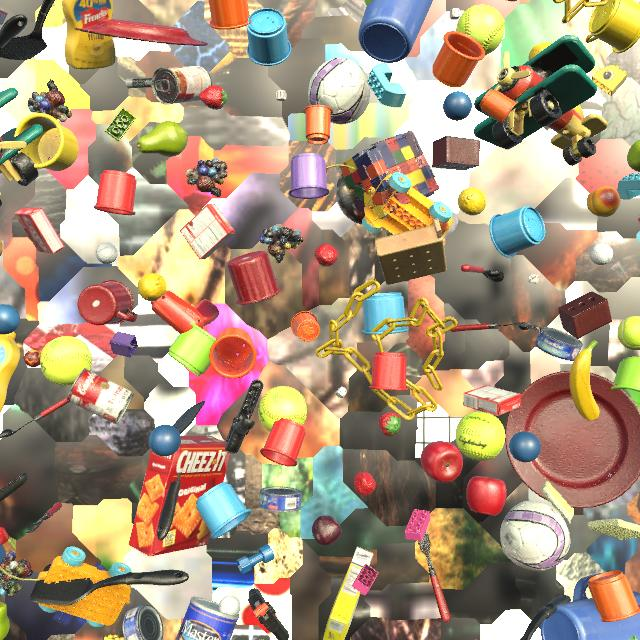ycb_002_master_chef_can: (176, 597, 239, 640)
ycb_003_cracker_box: (129, 436, 230, 557)
ycb_004_sugar_box: (323, 547, 374, 640)
ycb_005_tomato_soup_can: (67, 368, 134, 424), (151, 66, 212, 105)
ycb_006_mustard_bottle: (62, 0, 115, 69), (0, 332, 20, 412), (507, 0, 517, 2)
ycb_007_tuna_fish_can: (535, 327, 583, 361), (122, 604, 164, 640), (259, 487, 302, 512)
ycb_009_gelatin_box: (180, 203, 236, 260), (15, 207, 64, 254), (463, 385, 521, 416), (0, 8, 8, 25)
ycb_011_banana: (569, 340, 599, 421)
ycb_012_strawberry: (199, 86, 227, 110), (315, 244, 338, 267), (354, 472, 376, 496), (379, 412, 401, 436)
ycb_013_apple: (421, 441, 463, 483), (466, 476, 506, 516)
ycb_014_lemon: (137, 273, 167, 301), (458, 187, 486, 216), (529, 42, 553, 60)
ycb_015_peach: (587, 186, 621, 217), (0, 239, 3, 256)
ycb_016_pear: (137, 121, 188, 157), (627, 140, 640, 172), (0, 602, 10, 640)
ycb_018_plum: (312, 515, 341, 546)
